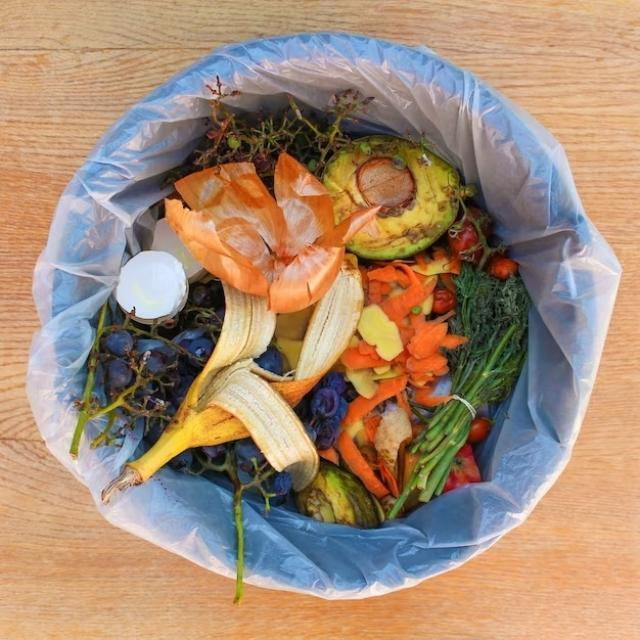Garbage: (70, 82, 530, 602)
Plastic: (116, 251, 189, 324)
